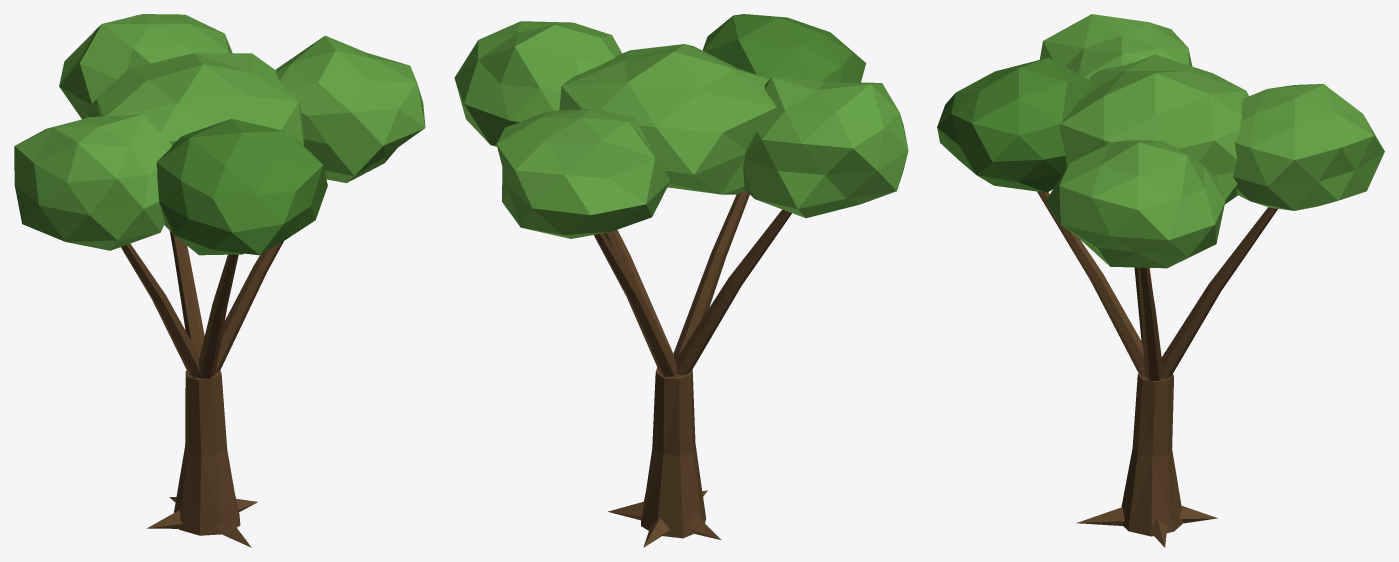
File: HS_LP_Tree_Elm_01.fbx
The picture shows the model from 3 angles, left to right: view 1: azimuth 30°, elevation 25°; view 2: azimuth 150°, elevation 25°; view 3: azimuth 270°, elevation 25°; orthographic projection. The views are drawn at different scales.
Visible parts, largest first — view 1: HS_LP_Tree_Elm_01; view 2: HS_LP_Tree_Elm_01; view 3: HS_LP_Tree_Elm_01.
Boxes of the visible parts, x1,y1,x2,y2 form: HS_LP_Tree_Elm_01: [14, 14, 425, 547]; HS_LP_Tree_Elm_01: [454, 14, 908, 547]; HS_LP_Tree_Elm_01: [937, 14, 1384, 547].
Size of the model in its own units: 617 by 672 by 605.
